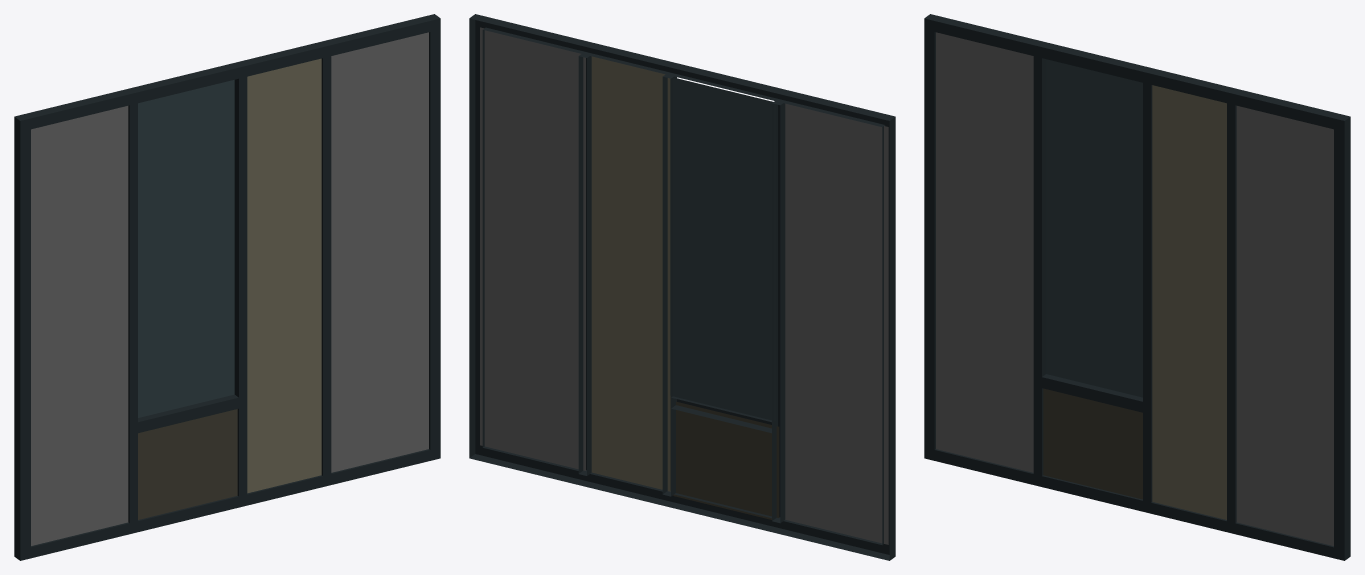
The model's file is front3.fbx.
3 views of the same model, side by side, from view 1: azimuth 30°, elevation 25°; view 2: azimuth 150°, elevation 25°; view 3: azimuth 330°, elevation 25° (orthographic).
Visible parts, largest first — view 1: Cube.003; view 2: Cube.003; view 3: Cube.003.
Boxes of the visible parts, x1,y1,x2,y2 form: Cube.003: [14, 14, 440, 560]; Cube.003: [469, 14, 895, 560]; Cube.003: [924, 14, 1350, 560].
Bounding box in the file's own units: 400 × 400 × 10.
